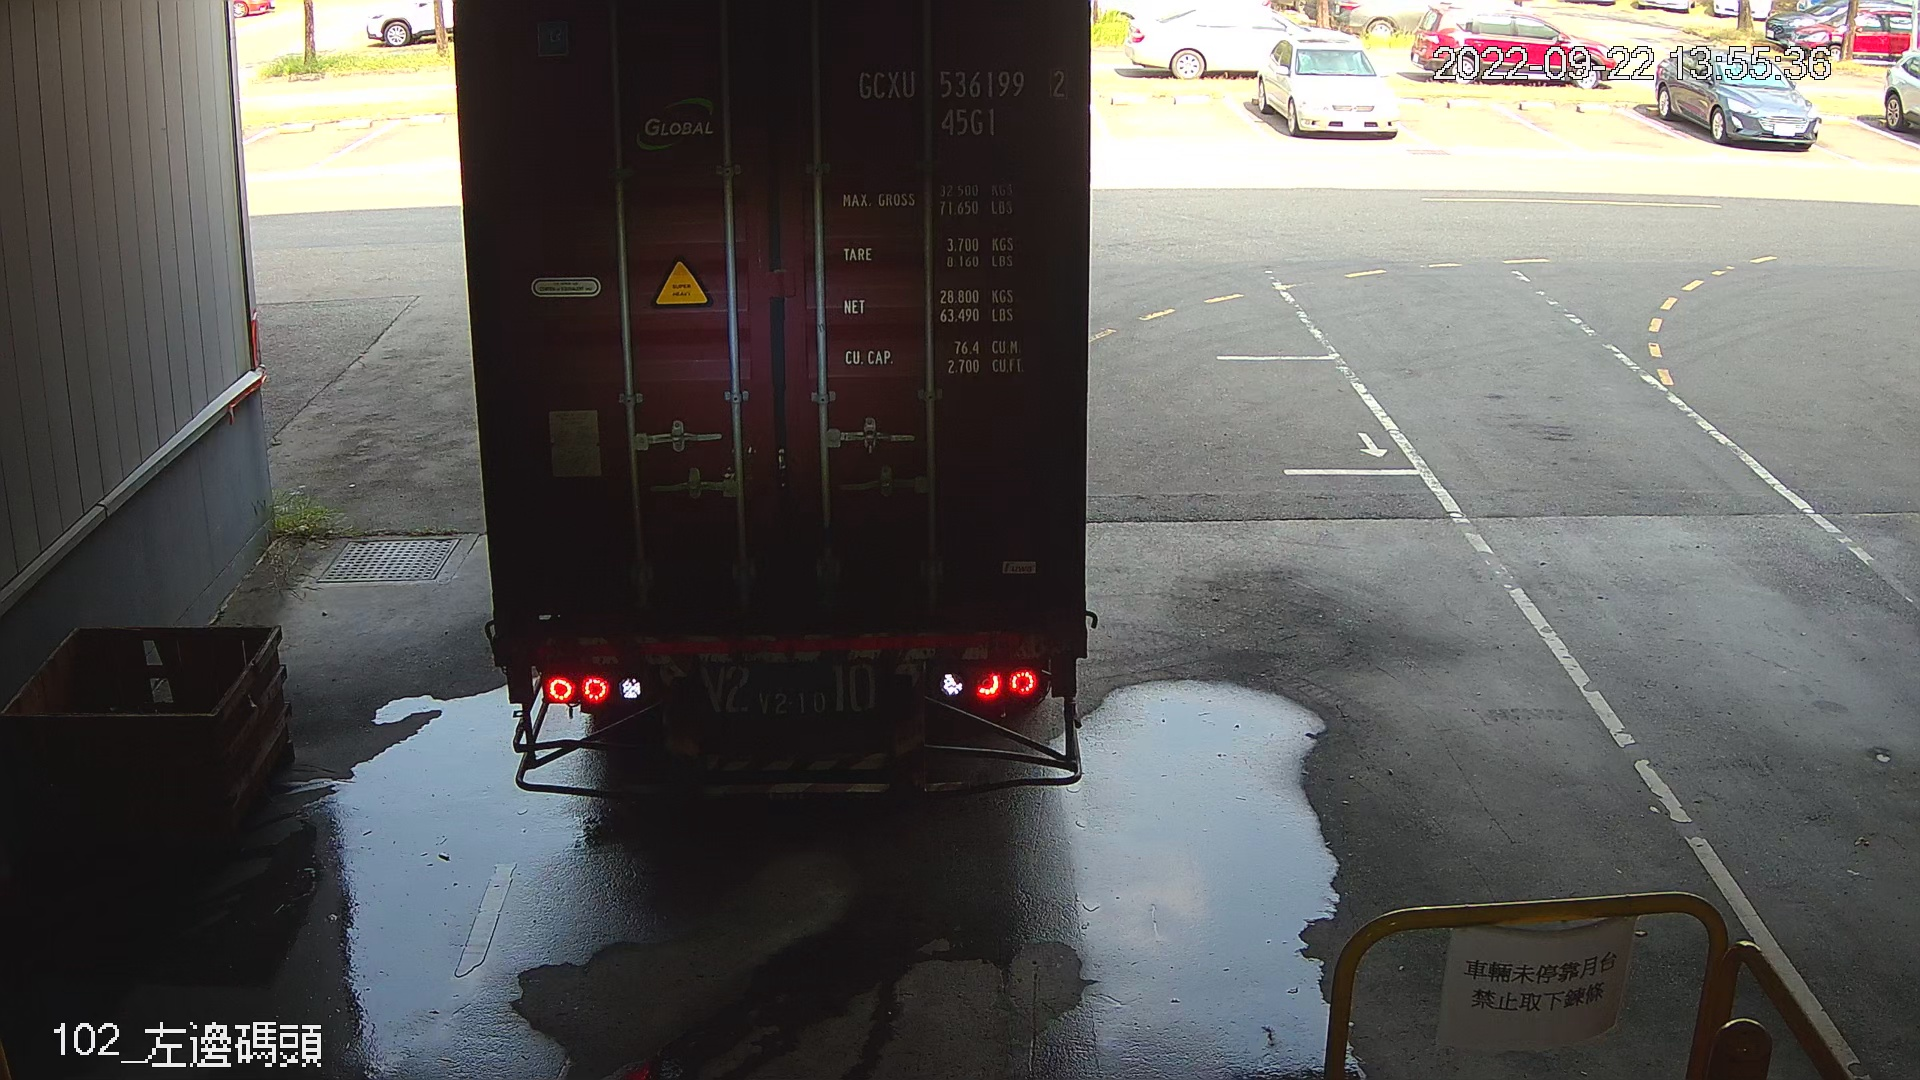container: (843, 57, 1079, 146)
